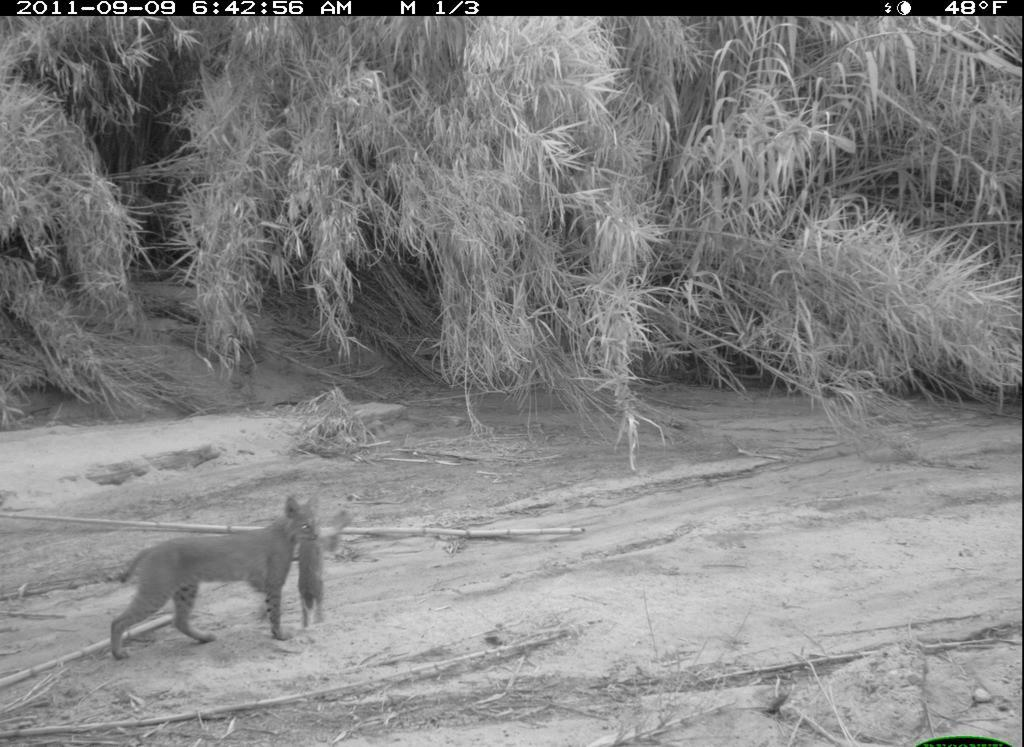rabbit: (291, 534, 331, 634)
